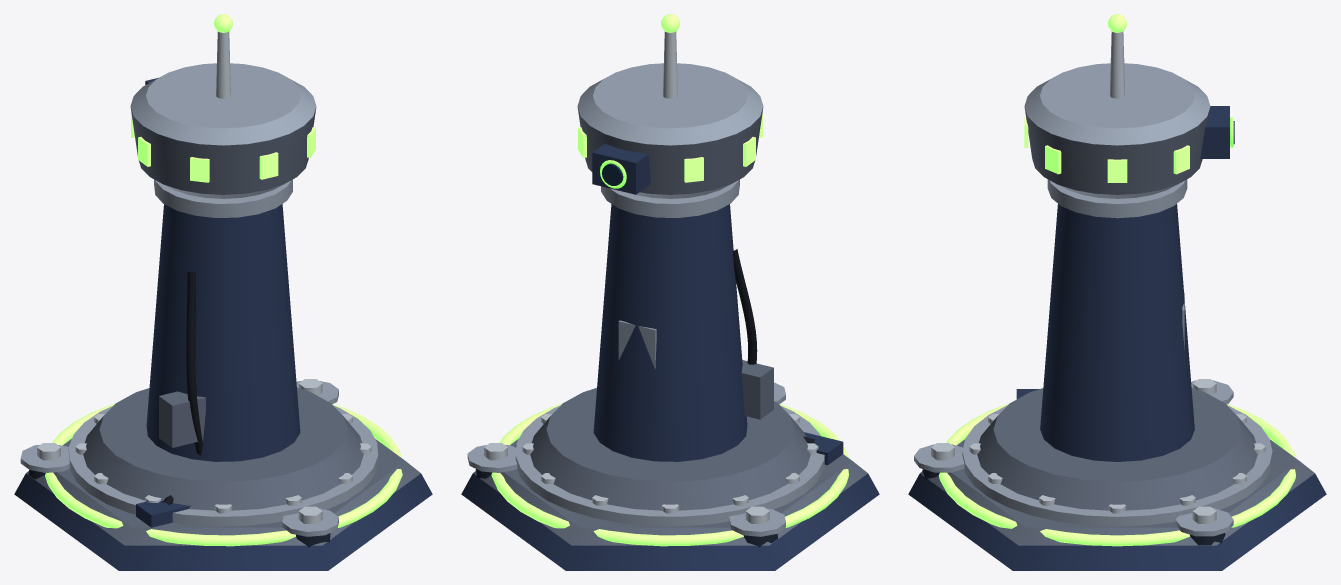
The model's file is tower_detector_chassis.glb.
3 views of the same model, side by side, from view 1: azimuth 30°, elevation 25°; view 2: azimuth 150°, elevation 25°; view 3: azimuth 270°, elevation 25° (orthographic).
Parts seen in each view (by area): view 1: detector_column, detector_collar, detector_head_cap, detector_baseplate, detector_head, detector_flange, detector_baseplate_bevel, detector_seam, detector_column_collar, detector_junction_b, detector_loom, detector_flange_bolts (+4 smaller); view 2: detector_column, detector_collar, detector_head_cap, detector_baseplate, detector_flange, detector_head, detector_baseplate_bevel, detector_seam, detector_column_collar, detector_eye_housing, detector_junction_b, detector_flange_bolts (+6 smaller); view 3: detector_column, detector_collar, detector_head_cap, detector_baseplate, detector_head, detector_flange, detector_baseplate_bevel, detector_seam, detector_column_collar, detector_eye_housing, detector_flange_bolts, detector_anchor_washer1 (+2 smaller).
Boxes of the visible parts, x1,y1,x2,y2 form: detector_column: (146,204,300,461); detector_collar: (83,388,363,510); detector_head_cap: (130,63,316,145); detector_baseplate: (14,473,432,570); detector_head: (130,107,316,194); detector_flange: (68,405,378,526); detector_baseplate_bevel: (26,439,420,545); detector_seam: (45,404,402,546); detector_column_collar: (154,179,292,217); detector_junction_b: (159,391,205,447); detector_loom: (186,271,202,455); detector_flange_bolts: (75,414,371,513); detector_column: (593,204,747,461); detector_collar: (530,388,810,510); detector_head_cap: (577,63,763,145); detector_baseplate: (461,473,879,570); detector_flange: (515,405,824,526); detector_head: (577,107,763,194); detector_baseplate_bevel: (473,439,867,545); detector_seam: (491,404,848,546); detector_column_collar: (601,179,739,217); detector_eye_housing: (592,143,650,194); detector_junction_b: (741,360,773,419); detector_flange_bolts: (522,414,818,513); detector_column: (1040,204,1194,461); detector_collar: (977,388,1257,510); detector_head_cap: (1024,63,1210,145); detector_baseplate: (908,473,1326,570); detector_head: (1024,107,1210,194); detector_flange: (962,405,1272,526); detector_baseplate_bevel: (920,439,1314,545); detector_seam: (939,404,1295,546); detector_column_collar: (1047,179,1187,218); detector_eye_housing: (1200,106,1229,158); detector_flange_bolts: (969,414,1265,513); detector_anchor_washer1: (1175,508,1233,536).
Size of the model in its own units: 1.87 by 2.73 by 2.16.
